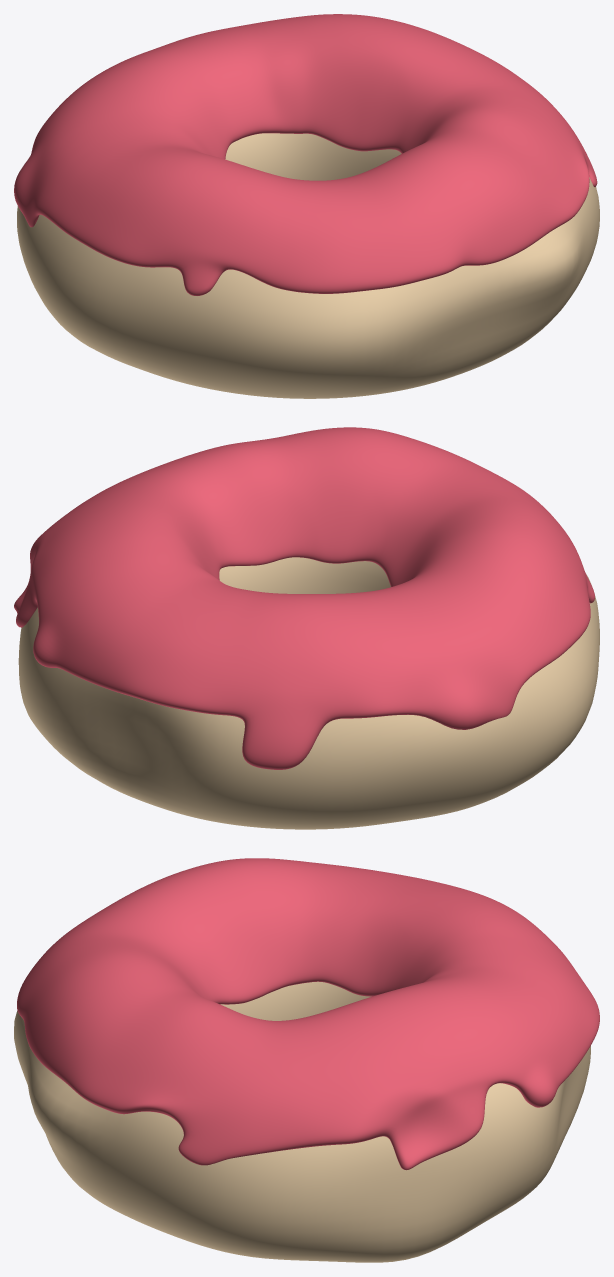
File: donut.glb
The picture shows the model from 3 angles, top to bottom: view 1: azimuth 30°, elevation 25°; view 2: azimuth 150°, elevation 25°; view 3: azimuth 270°, elevation 25°; orthographic projection. The views are drawn at different scales.
Parts seen in each view (by area): view 1: Icing, Donut; view 2: Icing, Donut; view 3: Icing, Donut.
Part boxes in pixels (x1,y1,x2,y2): Icing: (14,14,597,295); Donut: (17,133,599,398); Icing: (14,427,594,769); Donut: (18,557,599,829); Icing: (17,858,599,1170); Donut: (14,981,590,1262).
Size of what is drawn, in the model's own units: 0.1515 by 0.0636 by 0.1482.
